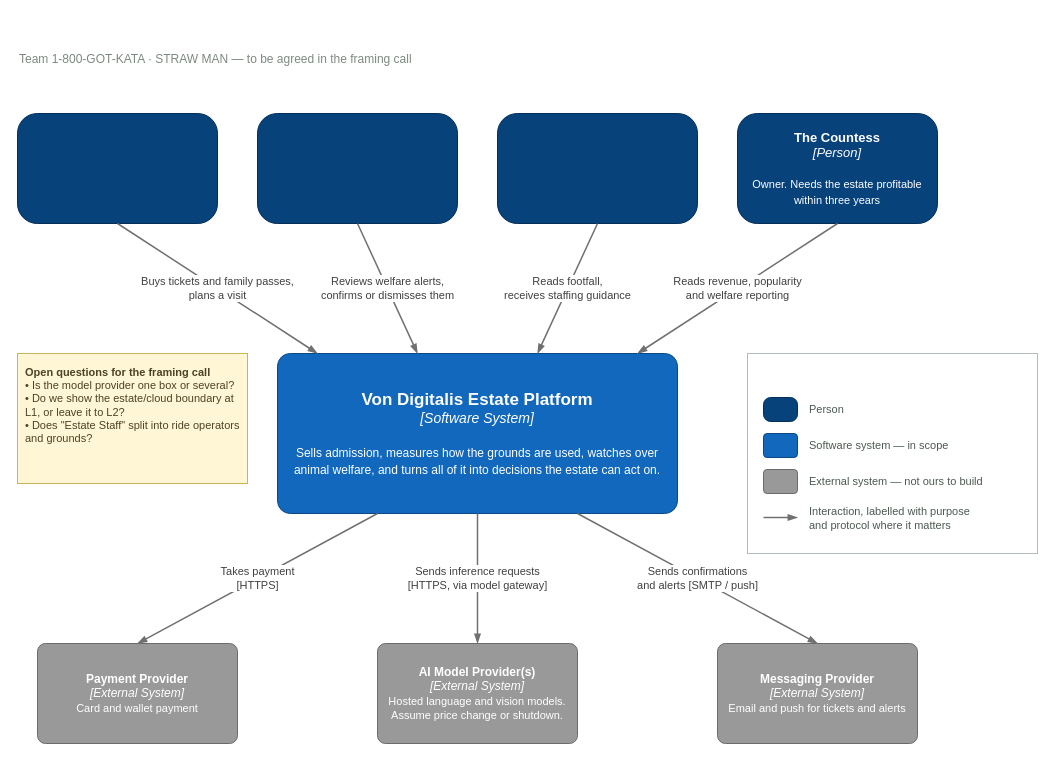
Image size: 1055x761. Some labels were removed from this diagram. Each missing label, with the centre of its shape:
Estate Staff [Person] Operates rides, gates and grounds; deployed where needed: the point at 597,168
Keeper / Vet [Person] Cares for 200+ animals across 55 enclosures: the point at 357,168
Visitor [Person] Buys admission, visits the grounds, may return: the point at 117,168
